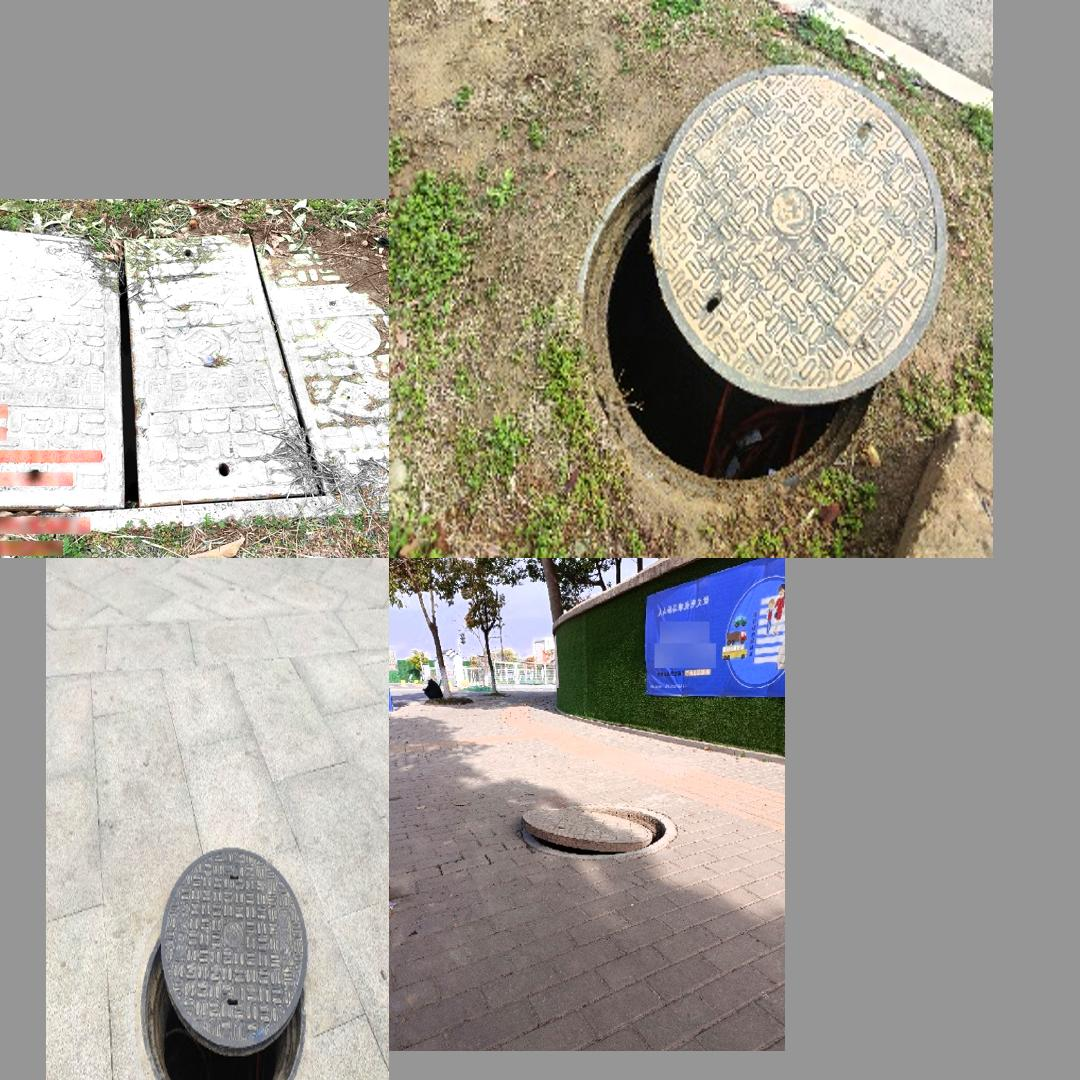uncovered: (582, 60, 945, 505), (0, 218, 275, 506), (140, 850, 305, 1080), (519, 806, 677, 859)
